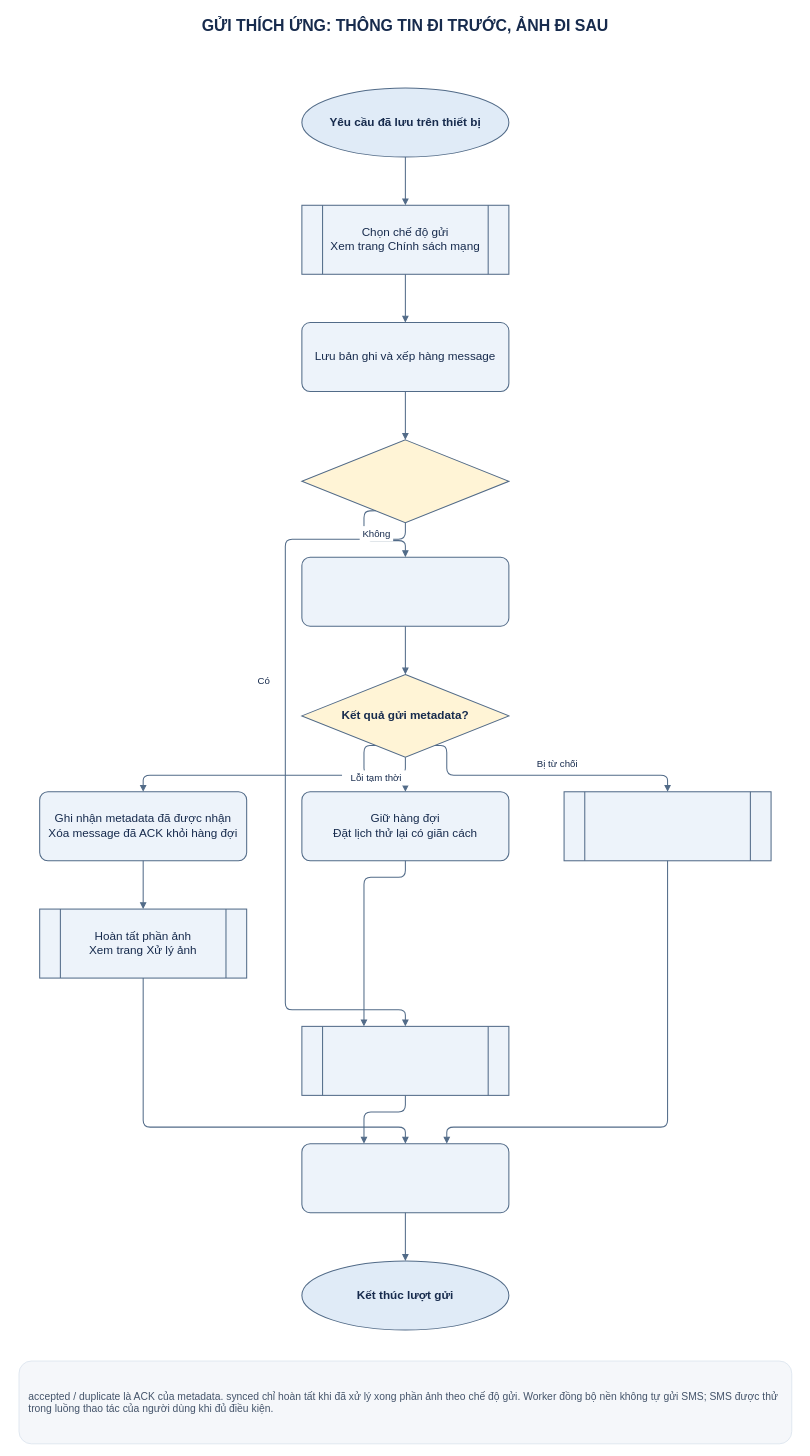
Image size: 810x1456. Some labels were removed from this diagram. Each missing label, with the box of its shape:
Gửi metadata qua /sync/messages: (301, 556, 509, 626)
Hiển thị kết quả thực tế Giữ phần còn chờ để thử lại: (301, 1143, 509, 1213)
Phục hồi lỗi được phép hoặc ghi lỗi không thể gửi: (563, 791, 771, 861)
Thử SMS nếu đủ điều kiện Giữ bản ghi chờ đồng bộ data: (301, 1026, 509, 1096)
Đang chọn SMS dự phòng?: (301, 439, 509, 523)
Đã nhận / trùng: (180, 756, 263, 771)
